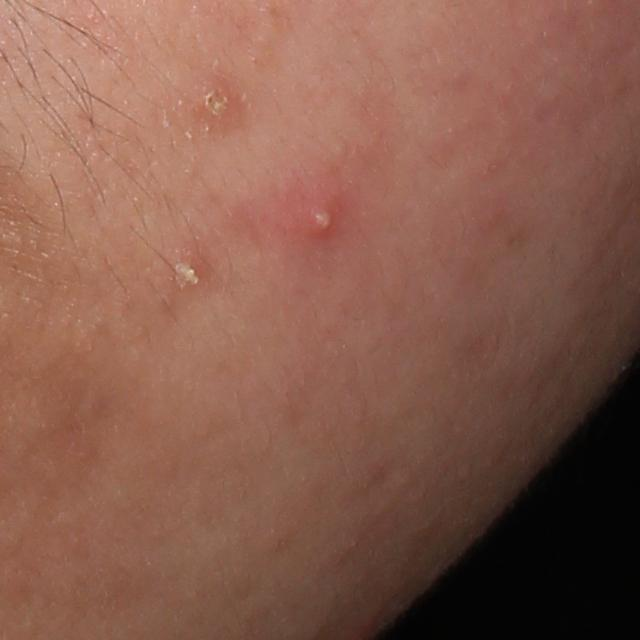pustule: (193, 85, 231, 122), (170, 260, 204, 292)
